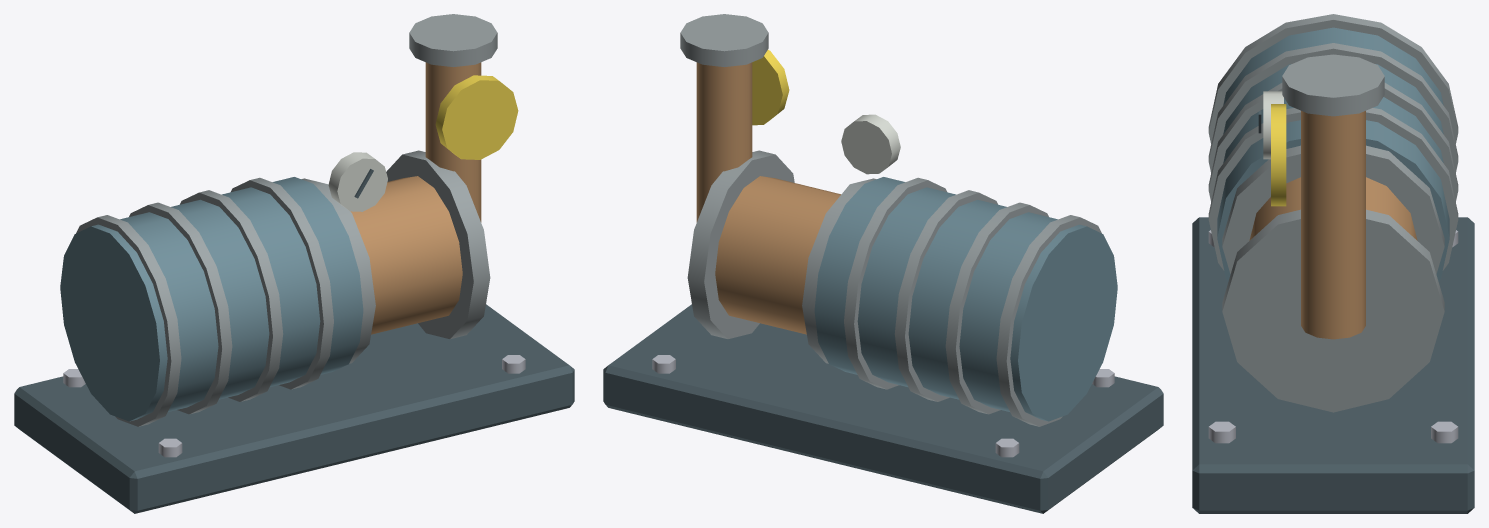
The model's file is cradle_pump_skid.glb.
The picture shows the model from 3 angles, left to right: view 1: azimuth 30°, elevation 25°; view 2: azimuth 150°, elevation 25°; view 3: azimuth 270°, elevation 25°; orthographic projection. The views are drawn at different scales.
Visible parts, largest first — view 1: deepsteel, bluecase, copper, steel.005, hazard, steel.006, steel, steel.001, steel.003, steel.002, copper.001, ceramic (+1 smaller); view 2: deepsteel, bluecase, copper, copper.001, steel.005, steel.006, steel, steel.001, steel.003, steel.002, ceramic, steel.004 (+1 smaller); view 3: deepsteel, steel.005, copper.001, bluecase, steel.004, steel.006, steel, steel.001, steel.003, steel.002, copper, hazard (+3 smaller).
Part boxes in pixels (x1,y1,x2,y2): deepsteel: [14, 304, 574, 513]; bluecase: [60, 177, 363, 421]; copper: [350, 176, 462, 334]; steel.005: [386, 150, 490, 338]; hazard: [435, 75, 518, 159]; steel.006: [409, 14, 497, 67]; steel: [76, 215, 181, 426]; steel.001: [129, 202, 232, 414]; steel.003: [231, 177, 333, 389]; steel.002: [180, 190, 283, 401]; copper.001: [425, 62, 481, 222]; ceramic: [328, 152, 387, 211]; deepsteel: [603, 304, 1163, 513]; bluecase: [814, 177, 1117, 421]; copper: [715, 176, 840, 334]; copper.001: [696, 62, 752, 222]; steel.005: [687, 150, 794, 338]; steel.006: [680, 14, 768, 67]; steel: [996, 215, 1101, 426]; steel.001: [945, 202, 1048, 414]; steel.003: [844, 177, 946, 389]; steel.002: [894, 190, 997, 401]; ceramic: [841, 114, 900, 174]; steel.004: [802, 178, 876, 363]; deepsteel: [1192, 217, 1474, 513]; steel.005: [1222, 209, 1444, 412]; copper.001: [1301, 111, 1365, 339]; bluecase: [1217, 27, 1449, 281]; steel.004: [1222, 145, 1444, 273]; steel.006: [1282, 54, 1384, 116]; steel: [1208, 14, 1458, 143]; steel.001: [1208, 43, 1458, 172]; steel.003: [1208, 108, 1458, 270]; steel.002: [1208, 83, 1458, 201]; copper: [1249, 177, 1417, 240]; hazard: [1271, 104, 1286, 206].
Size of the model in its own units: 3.5 by 2.61 by 1.65.
